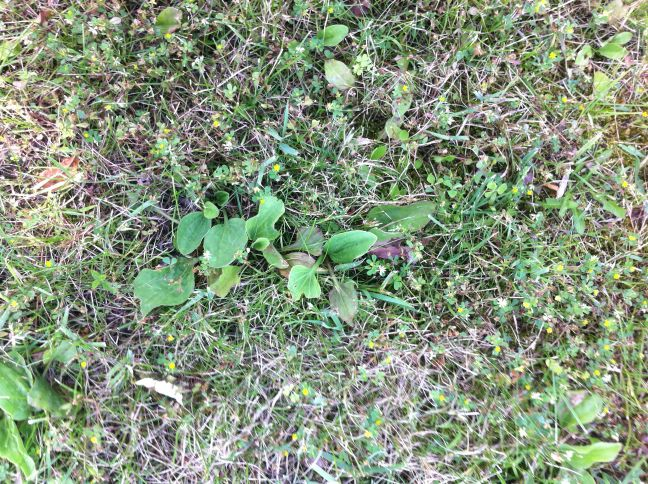weed1: (136, 182, 285, 313), (285, 198, 439, 309), (287, 21, 352, 71)
